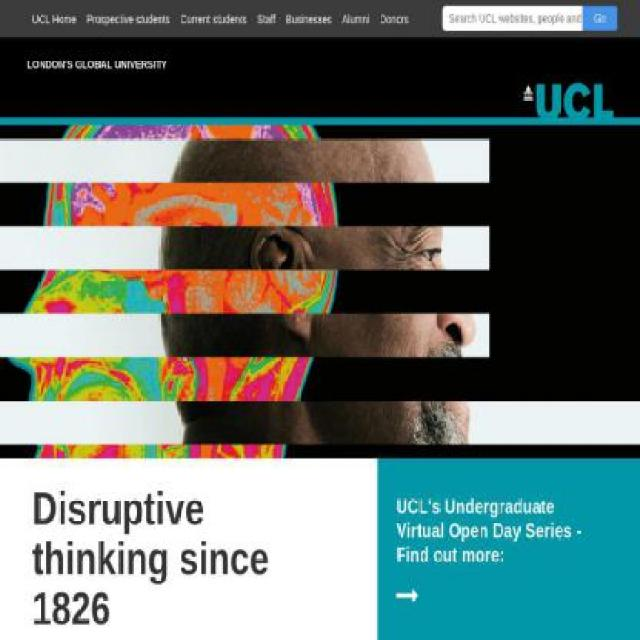button: (377, 458, 609, 639), (515, 80, 628, 118)
field: (442, 6, 592, 31), (582, 6, 618, 31)
